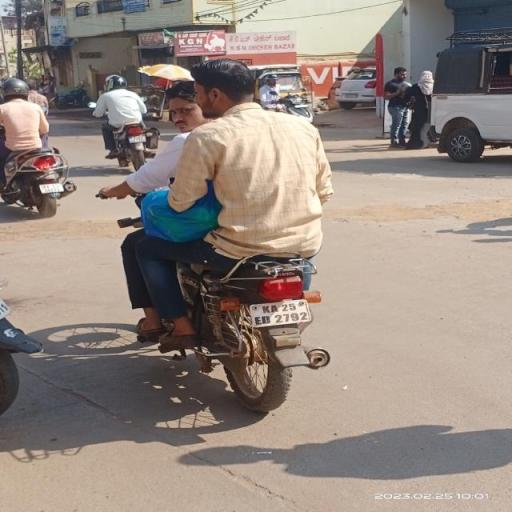bike: (96, 58, 343, 418)
numberplate: (240, 290, 318, 332)
withouthelmet: (193, 59, 251, 110), (168, 85, 194, 125)
